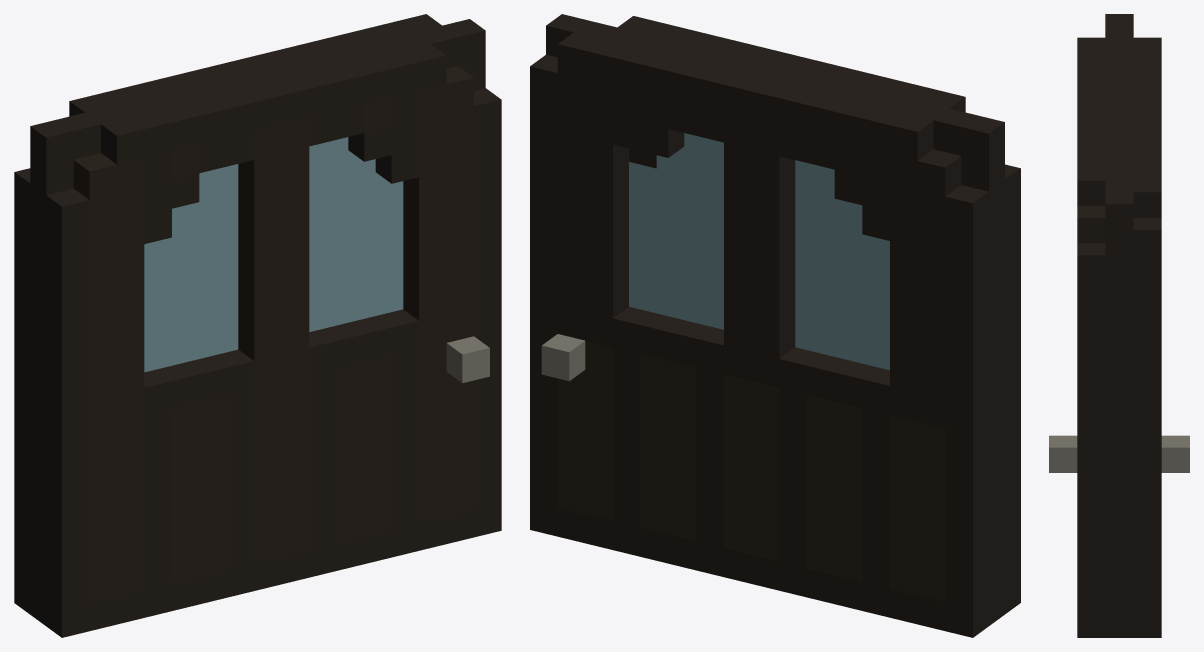
The model's file is tavern-22-door_single_iso.obj.
3 renders of one model, left to right at view 1: azimuth 30°, elevation 25°; view 2: azimuth 150°, elevation 25°; view 3: azimuth 270°, elevation 25°, orthographic. The views are drawn at different scales.
Visible parts, largest first — view 1: door_single_iso; view 2: door_single_iso; view 3: door_single_iso.
Part boxes in pixels (left/top/right/bottom): door_single_iso: left=14, top=14, right=501, bottom=637; door_single_iso: left=530, top=14, right=1020, bottom=637; door_single_iso: left=1049, top=14, right=1189, bottom=637.
Size of the model in its own units: 1.6 by 1.7 by 0.5.
Materials: 1 (1 with a texture image).
